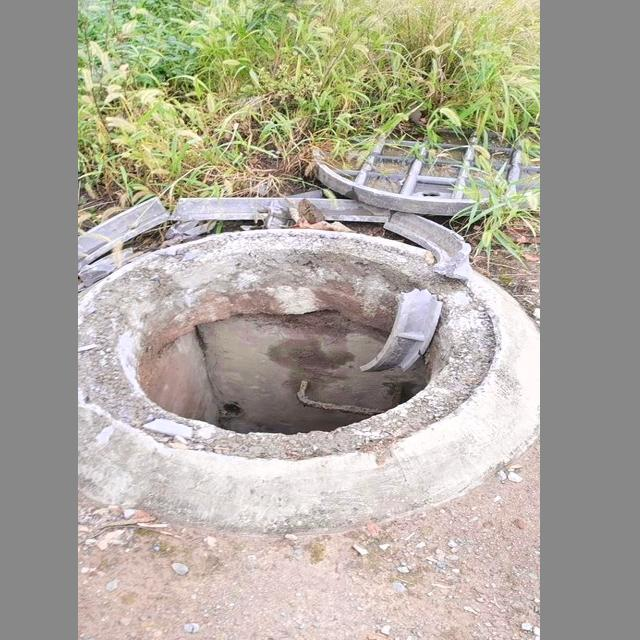uncovered: (91, 58, 532, 531)
